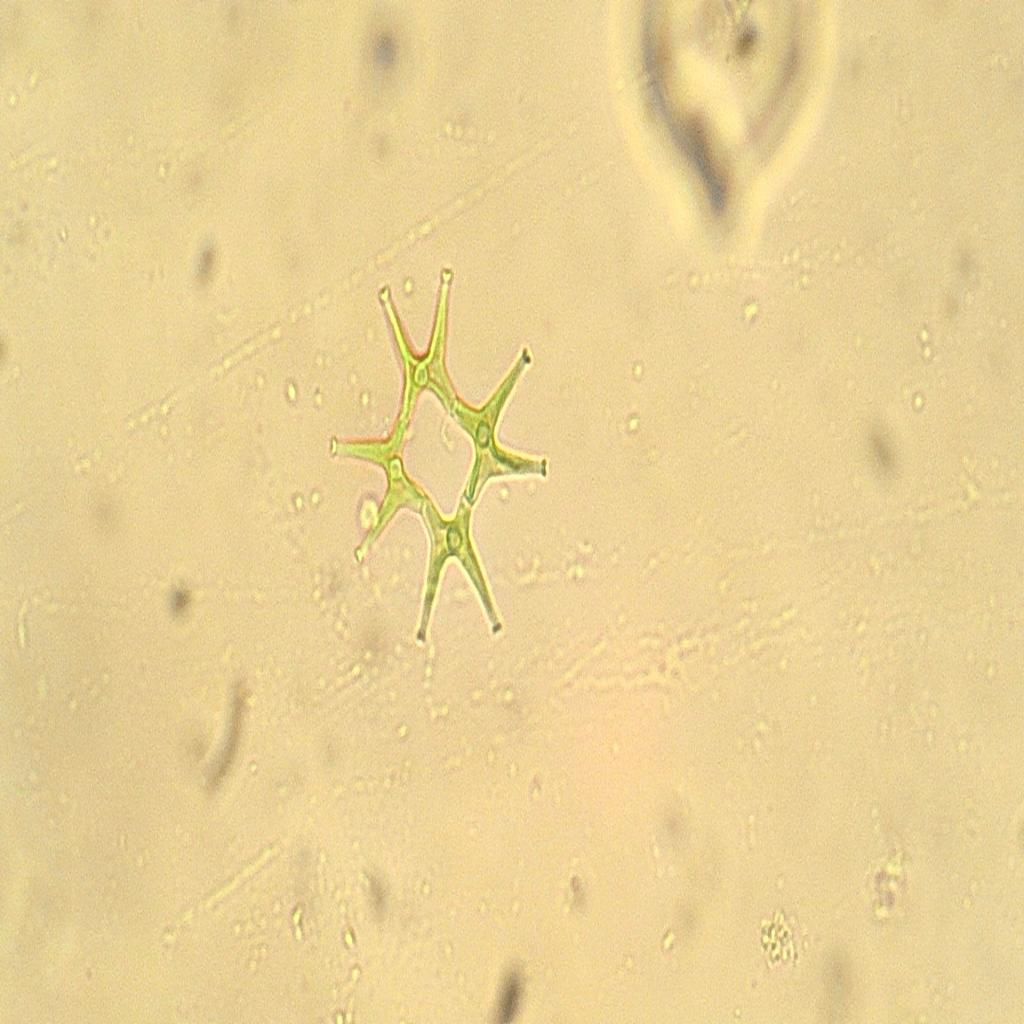Pediastrum_CO: (317, 257, 570, 657)
